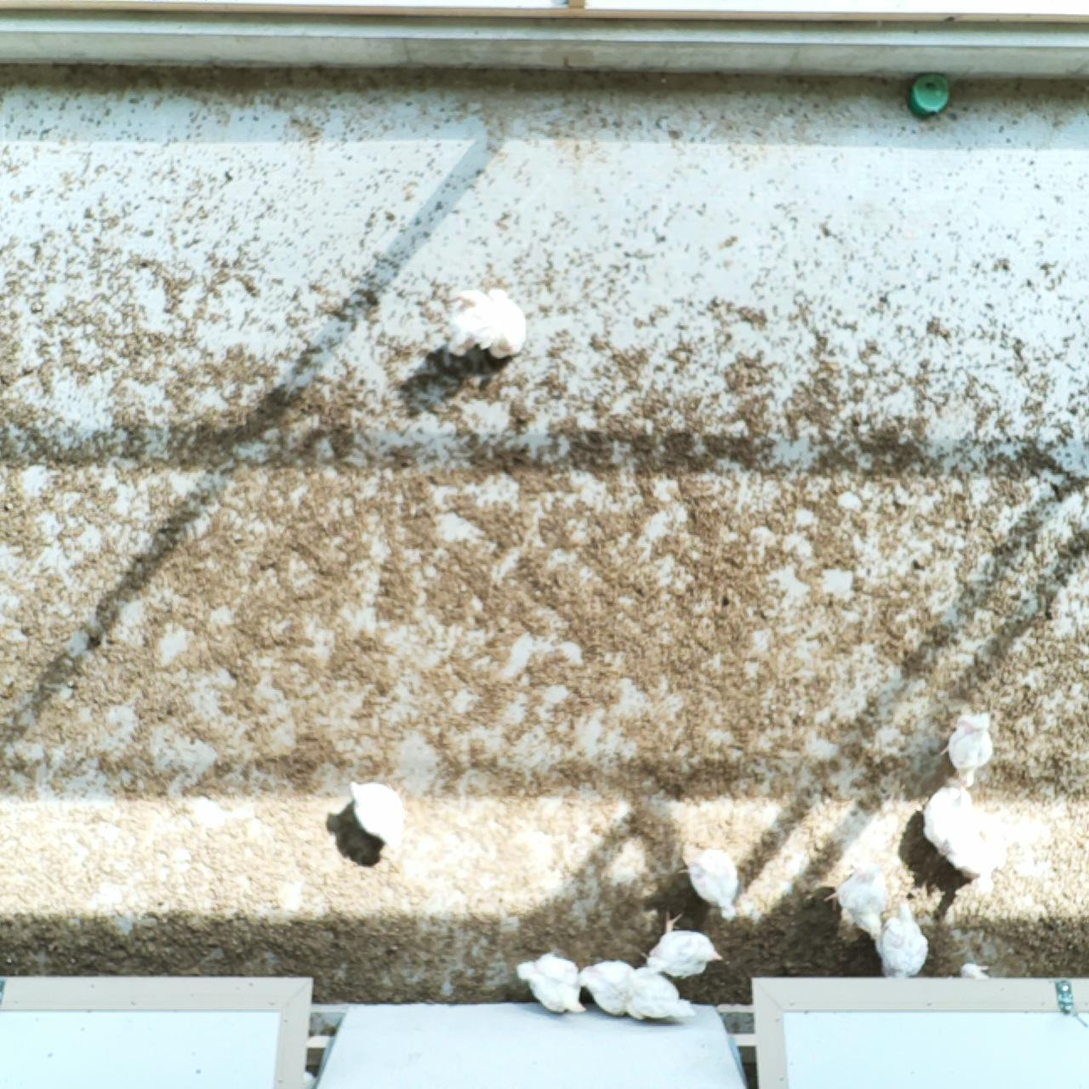chicken: (636, 907, 723, 984), (820, 856, 891, 942), (674, 844, 744, 927), (510, 949, 588, 1022), (342, 774, 410, 852), (913, 776, 977, 857), (946, 817, 1008, 900), (938, 709, 997, 792), (623, 962, 698, 1026), (437, 280, 498, 358), (575, 954, 641, 1025), (874, 898, 932, 978), (485, 283, 534, 365)
